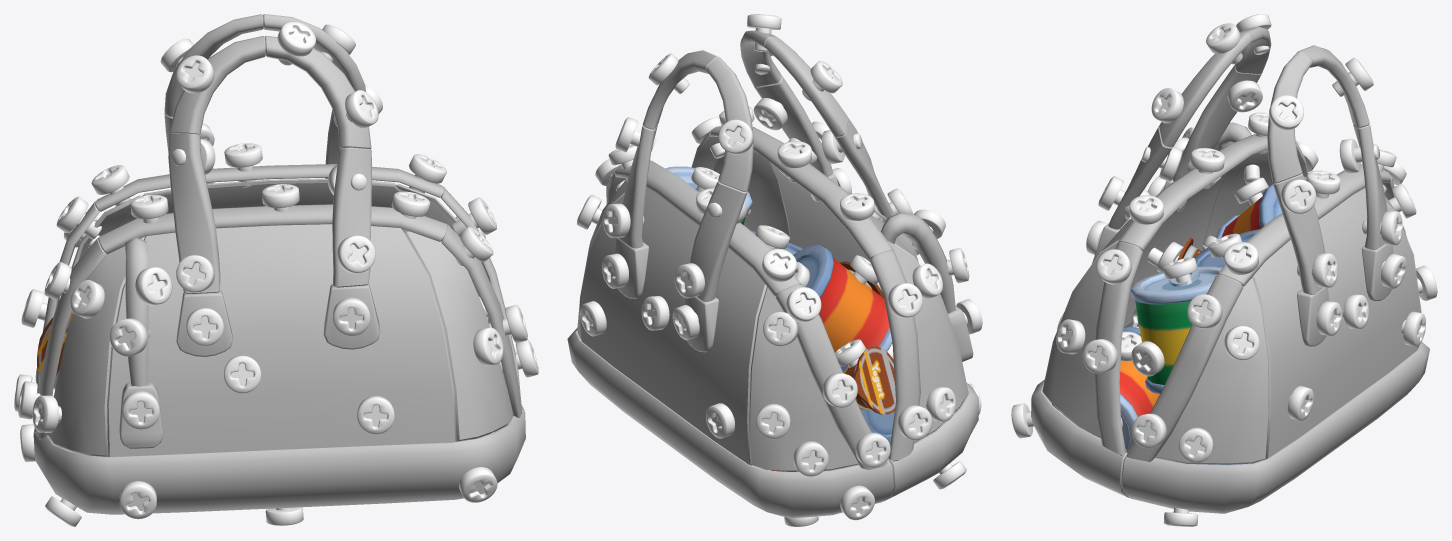
The model's file is Bag.fbx.
3 renders of one model, left to right at view 1: azimuth 30°, elevation 25°; view 2: azimuth 150°, elevation 25°; view 3: azimuth 270°, elevation 25°, orthographic. The views are drawn at different scales.
Visible parts, largest first — view 1: Board_Bag_014, Screw (×34), Board_Bag_010, Board_Bag_028, Board_Bag_015, Board_Bag_012, Board_Bag_020, Board_Bag_004, Board_Bag_018, Board_Bag_031, Board_Bag_003, Board_Bag_002 (+12 smaller); view 2: Screw (×38), Board_Bag_031, Board_Bag_027, Board_Bag_029, Board_Bag_022, Board_Bag_015, Board_Bag_044, Board_Bag_014, Board_Bag_010, Board_Bag_013, Board_Bag_018, Board_Bag_012 (+17 smaller); view 3: Screw (×35), Board_Bag_031, Board_Bag_027, Board_Bag_030, Board_Bag_028, Board_Bag_023, Board_Bag_032, Board_Bag_010, Board_Bag_011, Board_Bag_014, Board_Bag_012, Board_Bag_018 (+15 smaller).
Part boxes in pixels (x1,y1,x2,y2): Board_Bag_014: [107, 224, 457, 456]; Screw (×34): [18, 21, 538, 526]; Board_Bag_010: [33, 411, 525, 514]; Board_Bag_028: [405, 231, 512, 441]; Board_Bag_015: [47, 236, 144, 456]; Board_Bag_012: [98, 204, 447, 253]; Board_Bag_020: [168, 133, 220, 293]; Board_Bag_004: [332, 147, 371, 287]; Board_Bag_018: [95, 164, 444, 211]; Board_Bag_031: [117, 178, 400, 227]; Board_Bag_003: [265, 35, 371, 149]; Board_Bag_002: [169, 36, 265, 134]; Screw (×38): [577, 14, 982, 520]; Board_Bag_031: [581, 187, 766, 465]; Board_Bag_027: [567, 328, 893, 518]; Board_Bag_029: [749, 287, 858, 471]; Board_Bag_022: [793, 245, 892, 367]; Board_Bag_015: [888, 241, 968, 442]; Board_Bag_044: [870, 250, 920, 461]; Board_Bag_014: [770, 162, 940, 295]; Board_Bag_010: [884, 383, 978, 501]; Board_Bag_013: [775, 284, 887, 469]; Board_Bag_018: [615, 160, 801, 296]; Board_Bag_012: [710, 126, 893, 259]; Screw (×35): [1011, 14, 1437, 526]; Board_Bag_031: [1252, 188, 1419, 459]; Board_Bag_027: [1121, 341, 1429, 513]; Board_Bag_030: [1155, 277, 1269, 464]; Board_Bag_028: [1042, 242, 1126, 451]; Board_Bag_023: [1130, 266, 1222, 394]; Board_Bag_032: [1127, 274, 1243, 461]; Board_Bag_010: [1031, 322, 1172, 497]; Board_Bag_011: [1094, 242, 1142, 455]; Board_Bag_014: [1071, 172, 1227, 327]; Board_Bag_012: [1118, 134, 1267, 250]; Board_Bag_018: [1217, 164, 1391, 286].
Size of the model in its own units: 8.98 by 9.35 by 8.24.
Materials: 8 (6 with a texture image).
